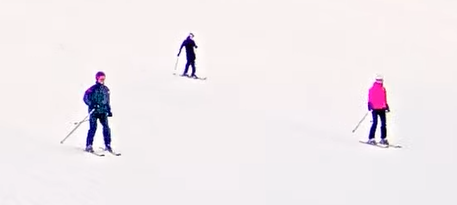skier: (60, 70, 122, 157), (352, 72, 402, 148), (172, 31, 207, 81)
